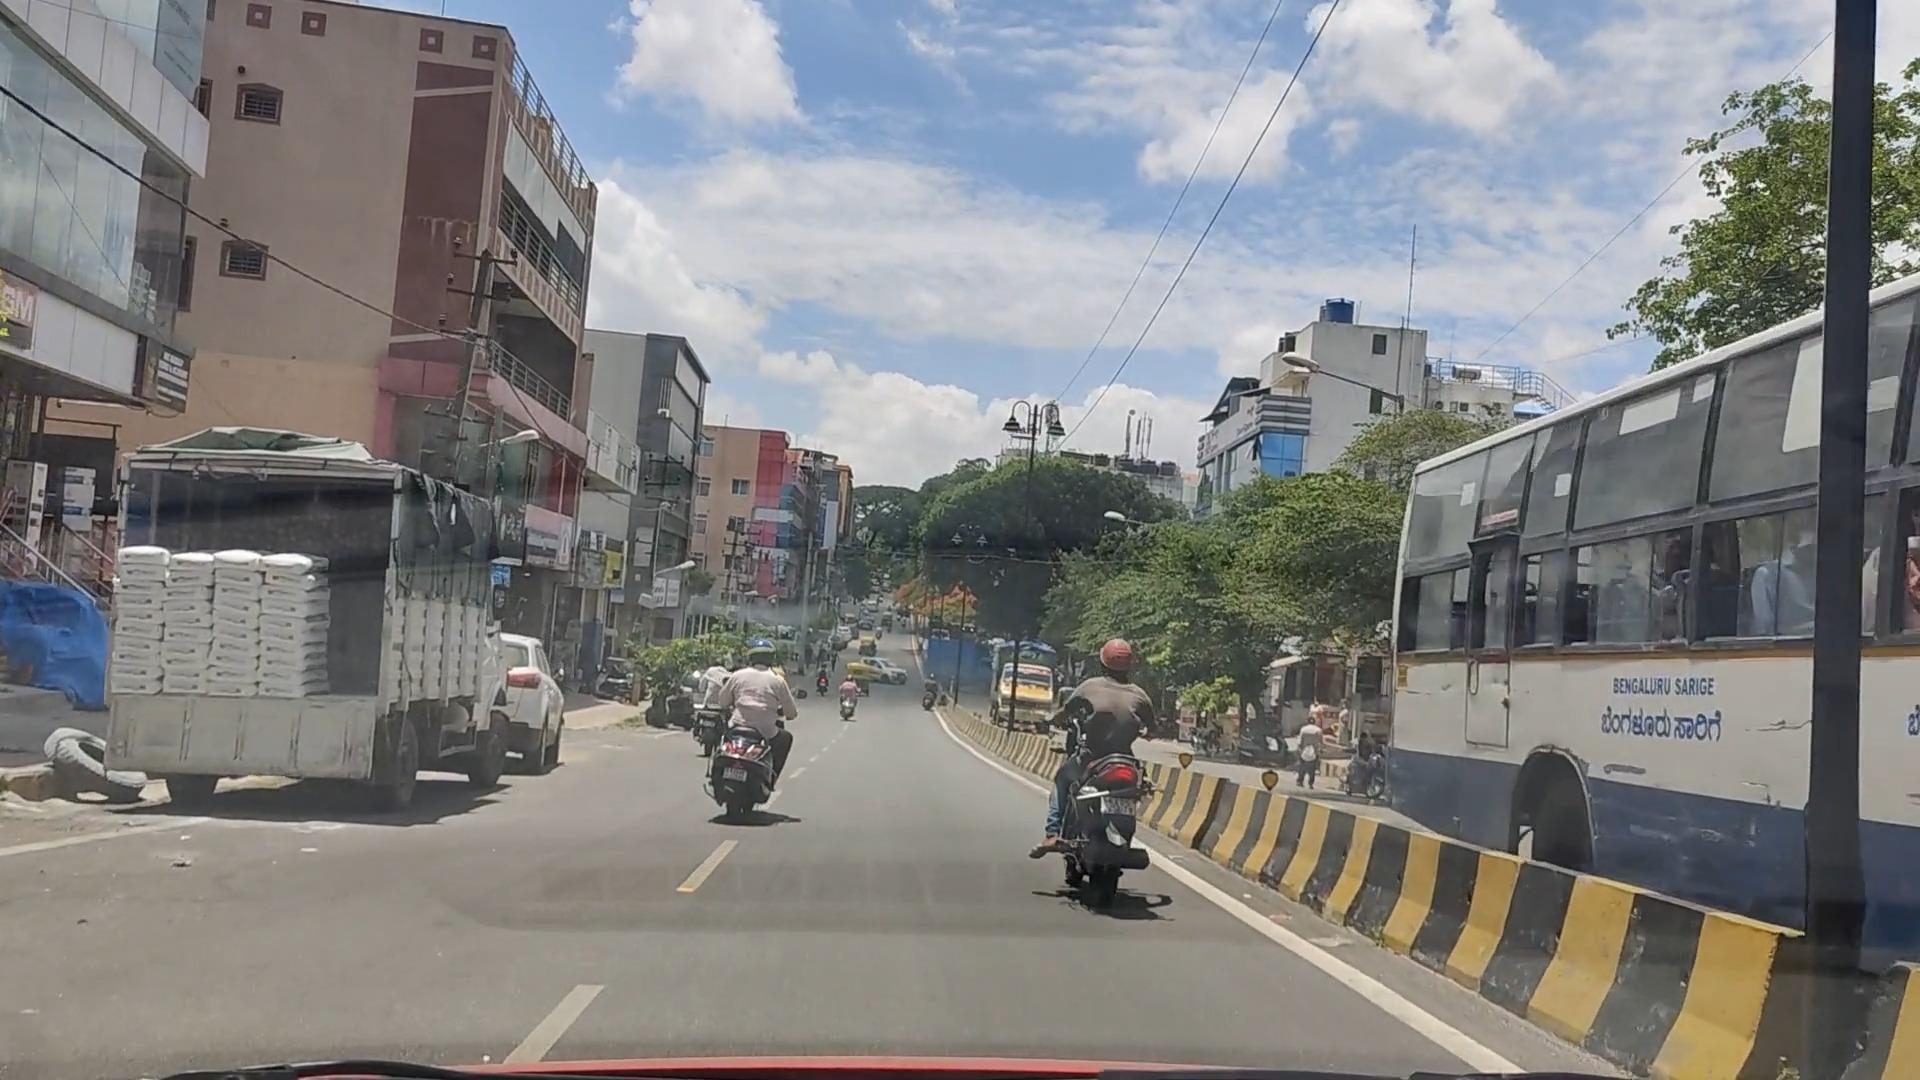HMV: (95, 418, 527, 848)
LMV: (1010, 633, 1193, 931), (705, 630, 803, 831)
